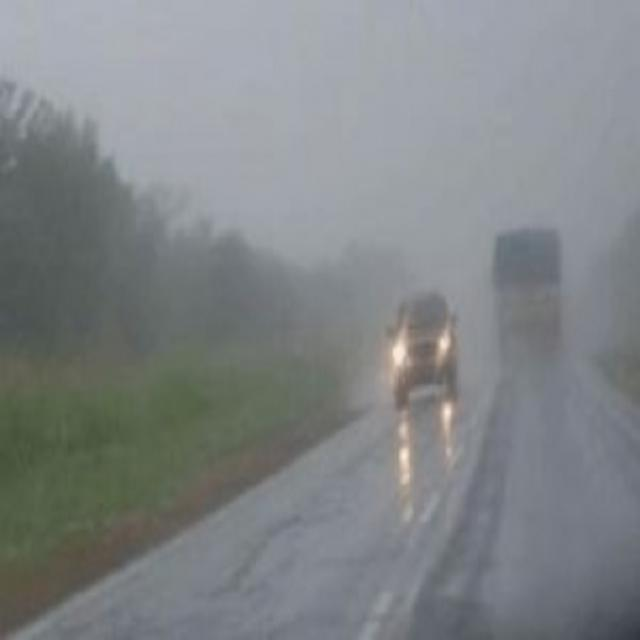bus: (492, 232, 566, 364)
car: (388, 287, 460, 404)
